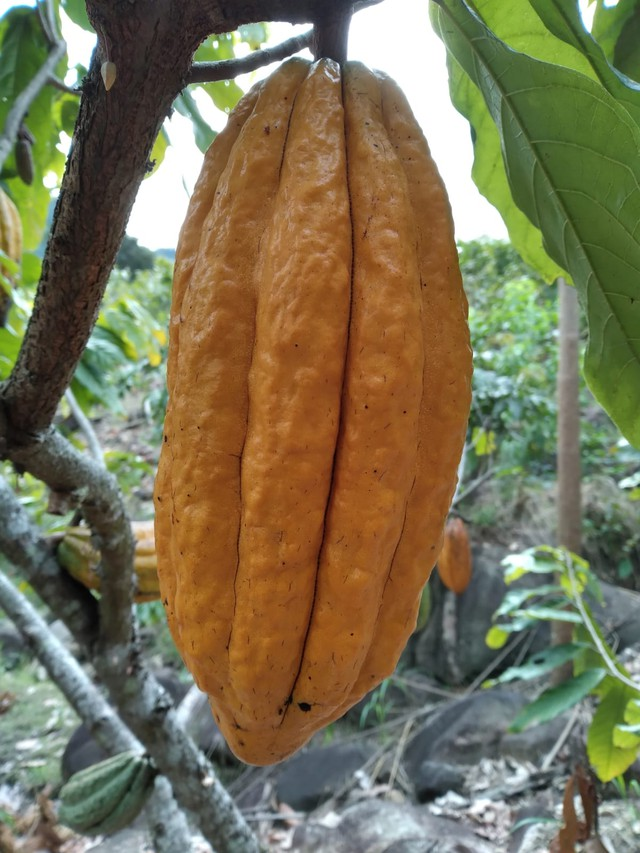Health: (149, 46, 479, 769)
